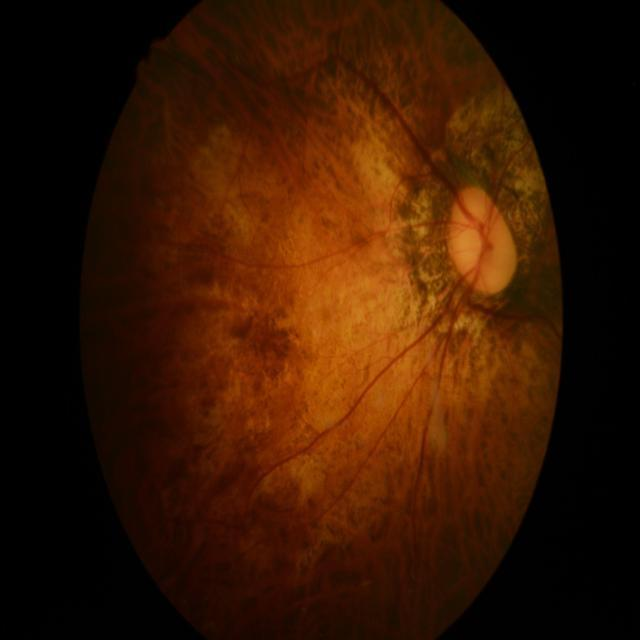cup: (458, 216, 499, 278)
disk: (447, 184, 518, 296)
